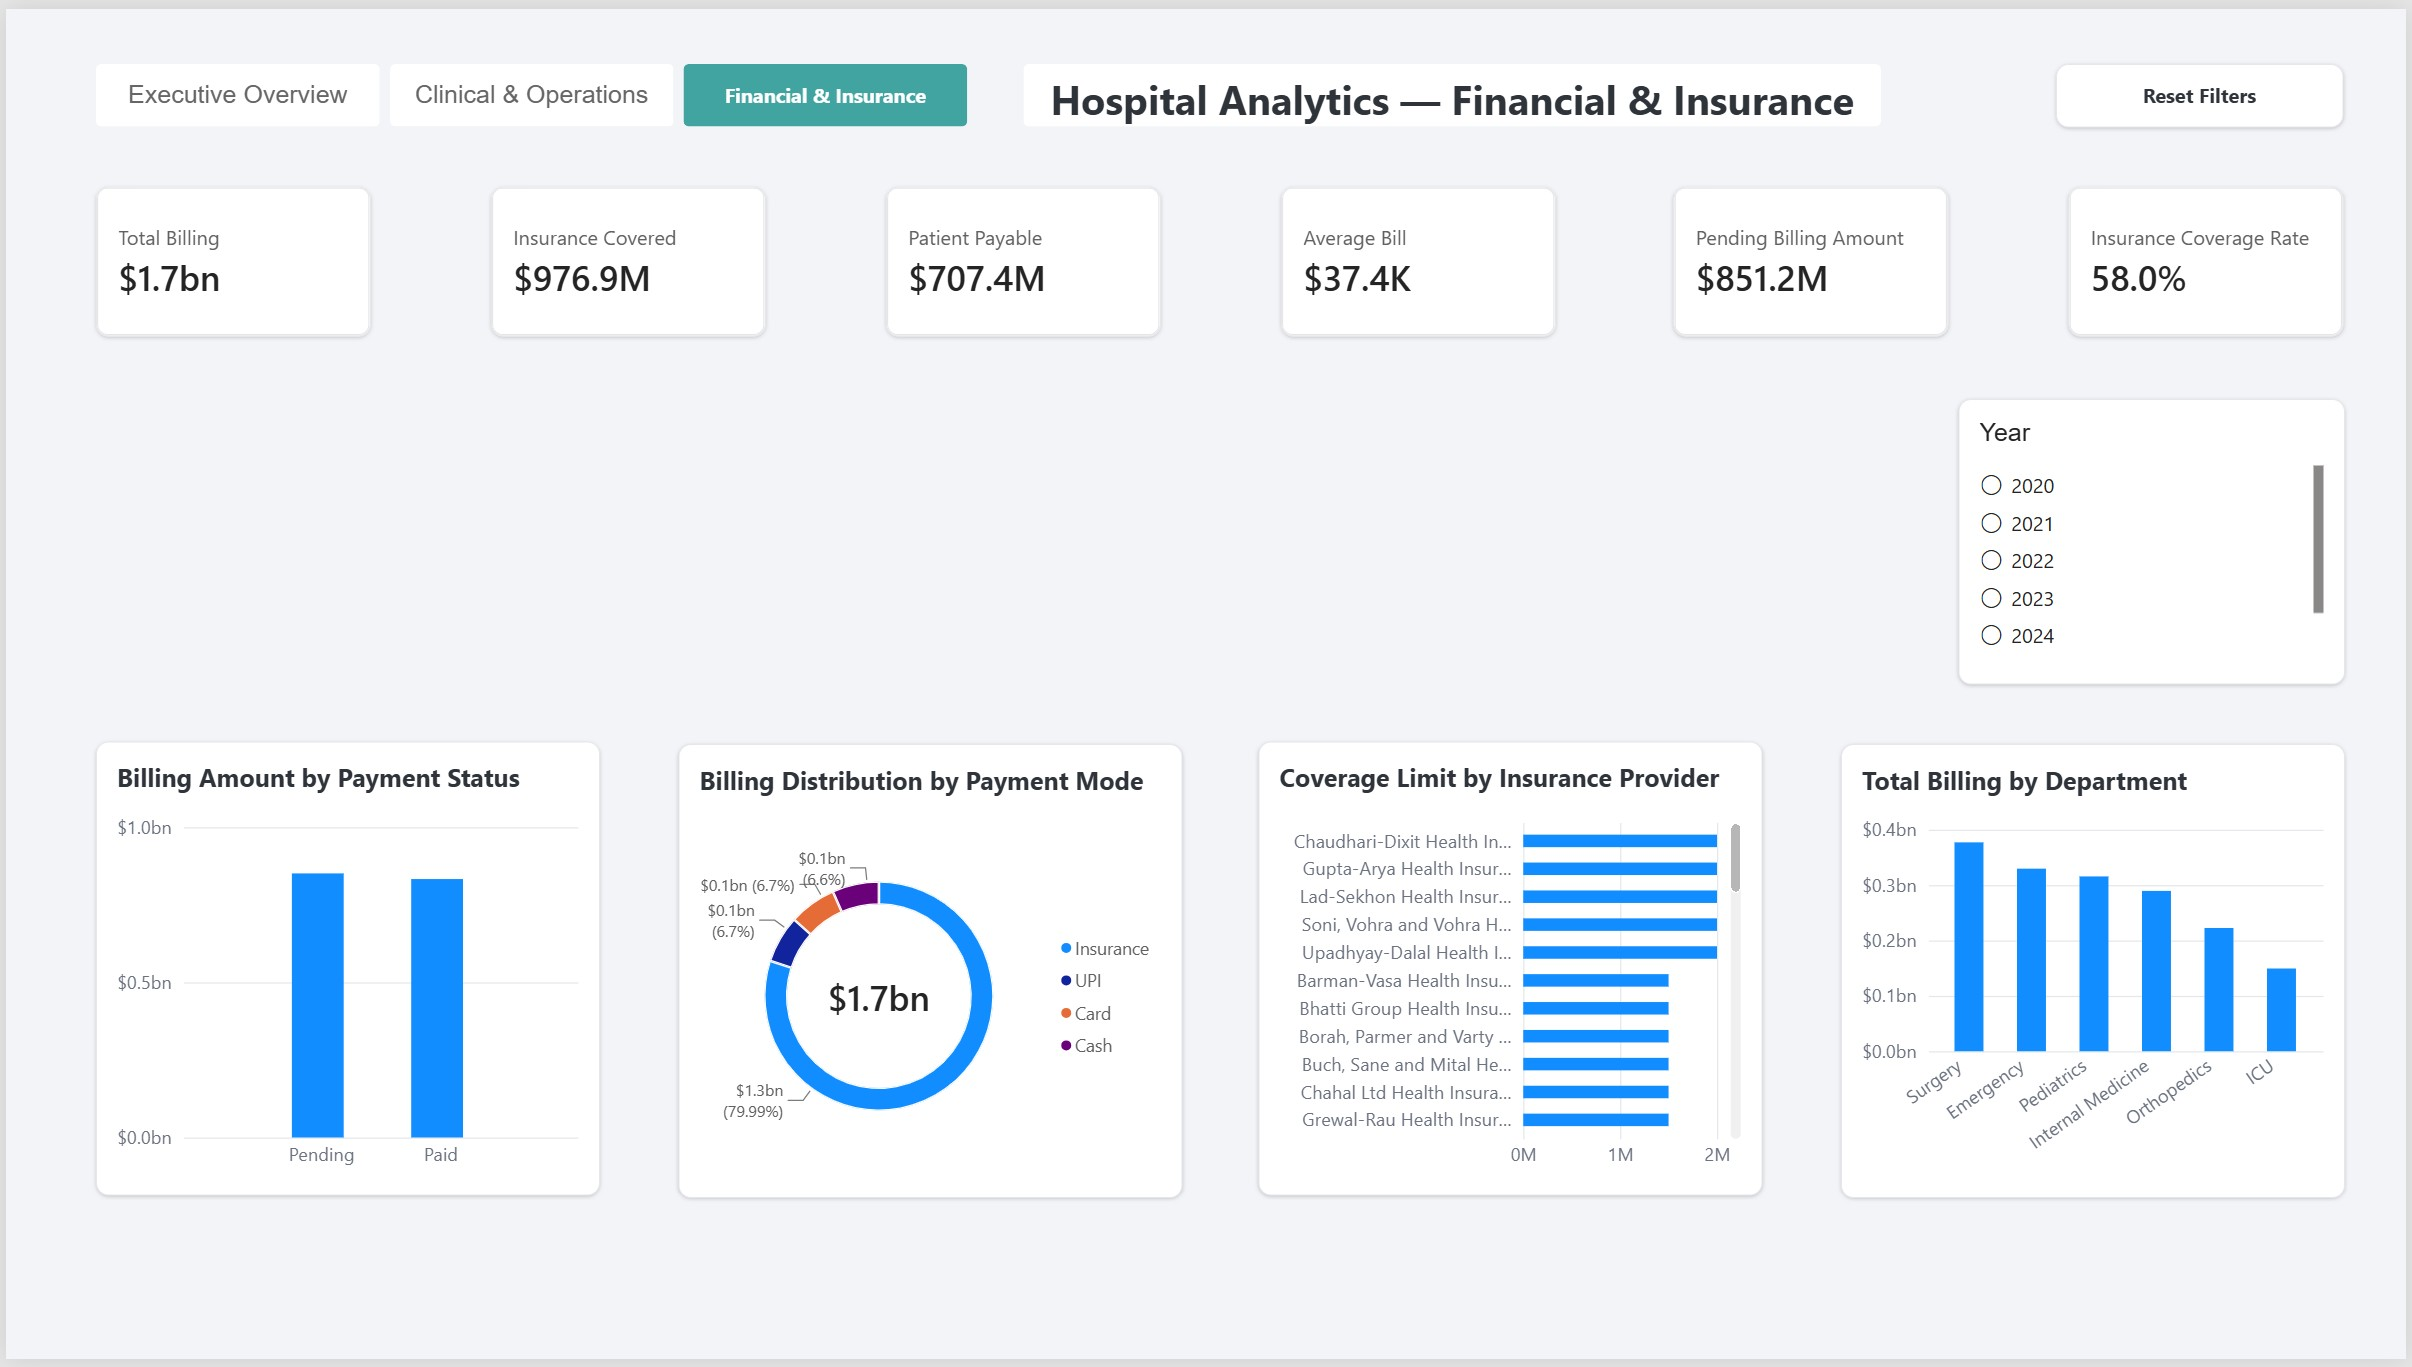

The dashboard page shown, as its layout file describes it:
{"tool":"powerbi","page":{"name":"Financial & Insurance","canvas":[1920,1080],"ordinal":2},"visuals":[{"type":"cardVisual","fields":{"Data":["_Measures.Total Billing"]},"box":[72.7,141.2,220,120],"z":0},{"type":"cardVisual","fields":{"Data":["_Measures.Insurance_covered"]},"box":[388.2,141.2,220,120],"z":1000},{"type":"cardVisual","fields":{"Data":["_Measures.Patient_Payable"]},"box":[703.7,141.2,220,120],"z":2000},{"type":"cardVisual","fields":{"Data":["_Measures.Average_Bill"]},"box":[1019.1,141.2,220,120],"z":3000},{"type":"cardVisual","fields":{"Data":["_Measures.Pending_Billing_Amount"]},"box":[1334.6,141.2,220,120],"z":4000},{"type":"cardVisual","fields":{"Data":["_Measures.Insurance_Coverage_Rate"]},"box":[1650,141.2,220,120],"z":5000},{"type":"clusteredColumnChart","title":"Billing Amount by Payment Status","fields":{"Y":["_Measures.Total Billing"],"Category":["billing.payment_status"]},"box":[72.4,586.3,403,363],"z":6000},{"type":"donutChart","title":"Billing Distribution by Payment Mode","fields":{"Category":["billing.payment_mode"],"Y":["_Measures.Total Billing"]},"box":[537.5,588.1,403,363],"z":7000},{"type":"clusteredBarChart","title":"Coverage Limit by Insurance Provider","fields":{"Category":["insurance_provider.provider_name"],"Y":["_Measures.Total Coverage Limit"]},"box":[1002.6,586.3,403,363],"z":8000},{"type":"clusteredColumnChart","title":"Total Billing by Department","fields":{"Y":["_Measures.Total Billing"],"Category":["Department.department_name"]},"box":[1467.6,588.1,403,363],"z":9000},{"type":"actionButton","box":[1640,44,229.8,50.7],"z":10000},{"type":"listSlicer","fields":{"Values":["Date_Table.Year"]},"box":[1561.7,311.3,309.1,228.6],"z":11000},{"type":"pageNavigator","box":[72,44,698.5,50.7],"z":12000},{"type":"actionButton","box":[814,44,686,50],"z":13000}]}

Visuals, with their boxes in screenshot pixels (x1, y1, x2, y2), scaled from the page's 1920x1080 canvas onto the 2412x1367 screenshot:
cardVisual - _Measures.Total Billing: [x1=91, y1=179, x2=368, y2=331]
cardVisual - _Measures.Insurance_covered: [x1=488, y1=179, x2=764, y2=331]
cardVisual - _Measures.Patient_Payable: [x1=884, y1=179, x2=1160, y2=331]
cardVisual - _Measures.Average_Bill: [x1=1280, y1=179, x2=1557, y2=331]
cardVisual - _Measures.Pending_Billing_Amount: [x1=1677, y1=179, x2=1953, y2=331]
cardVisual - _Measures.Insurance_Coverage_Rate: [x1=2073, y1=179, x2=2349, y2=331]
"Billing Amount by Payment Status" clusteredColumnChart: [x1=91, y1=742, x2=597, y2=1202]
"Billing Distribution by Payment Mode" donutChart: [x1=675, y1=744, x2=1182, y2=1204]
"Coverage Limit by Insurance Provider" clusteredBarChart: [x1=1260, y1=742, x2=1766, y2=1202]
"Total Billing by Department" clusteredColumnChart: [x1=1844, y1=744, x2=2350, y2=1204]
actionButton: [x1=2060, y1=56, x2=2349, y2=120]
listSlicer - Date_Table.Year: [x1=1962, y1=394, x2=2350, y2=683]
pageNavigator: [x1=90, y1=56, x2=968, y2=120]
actionButton: [x1=1023, y1=56, x2=1884, y2=119]
